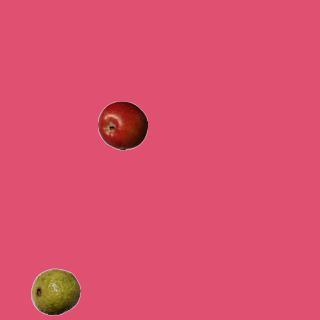Apple Braeburn: (97, 100, 147, 150)
Guava: (30, 266, 80, 316)
